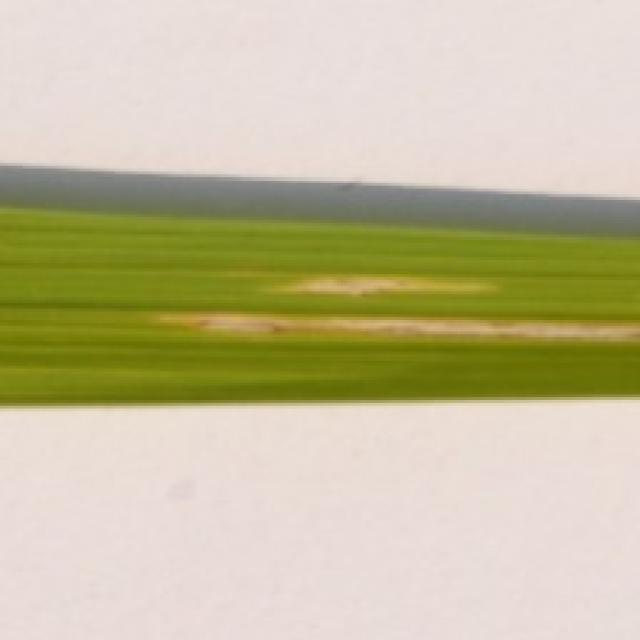Rice___Bacterial_Leaf_Blight: (0, 208, 637, 407)
